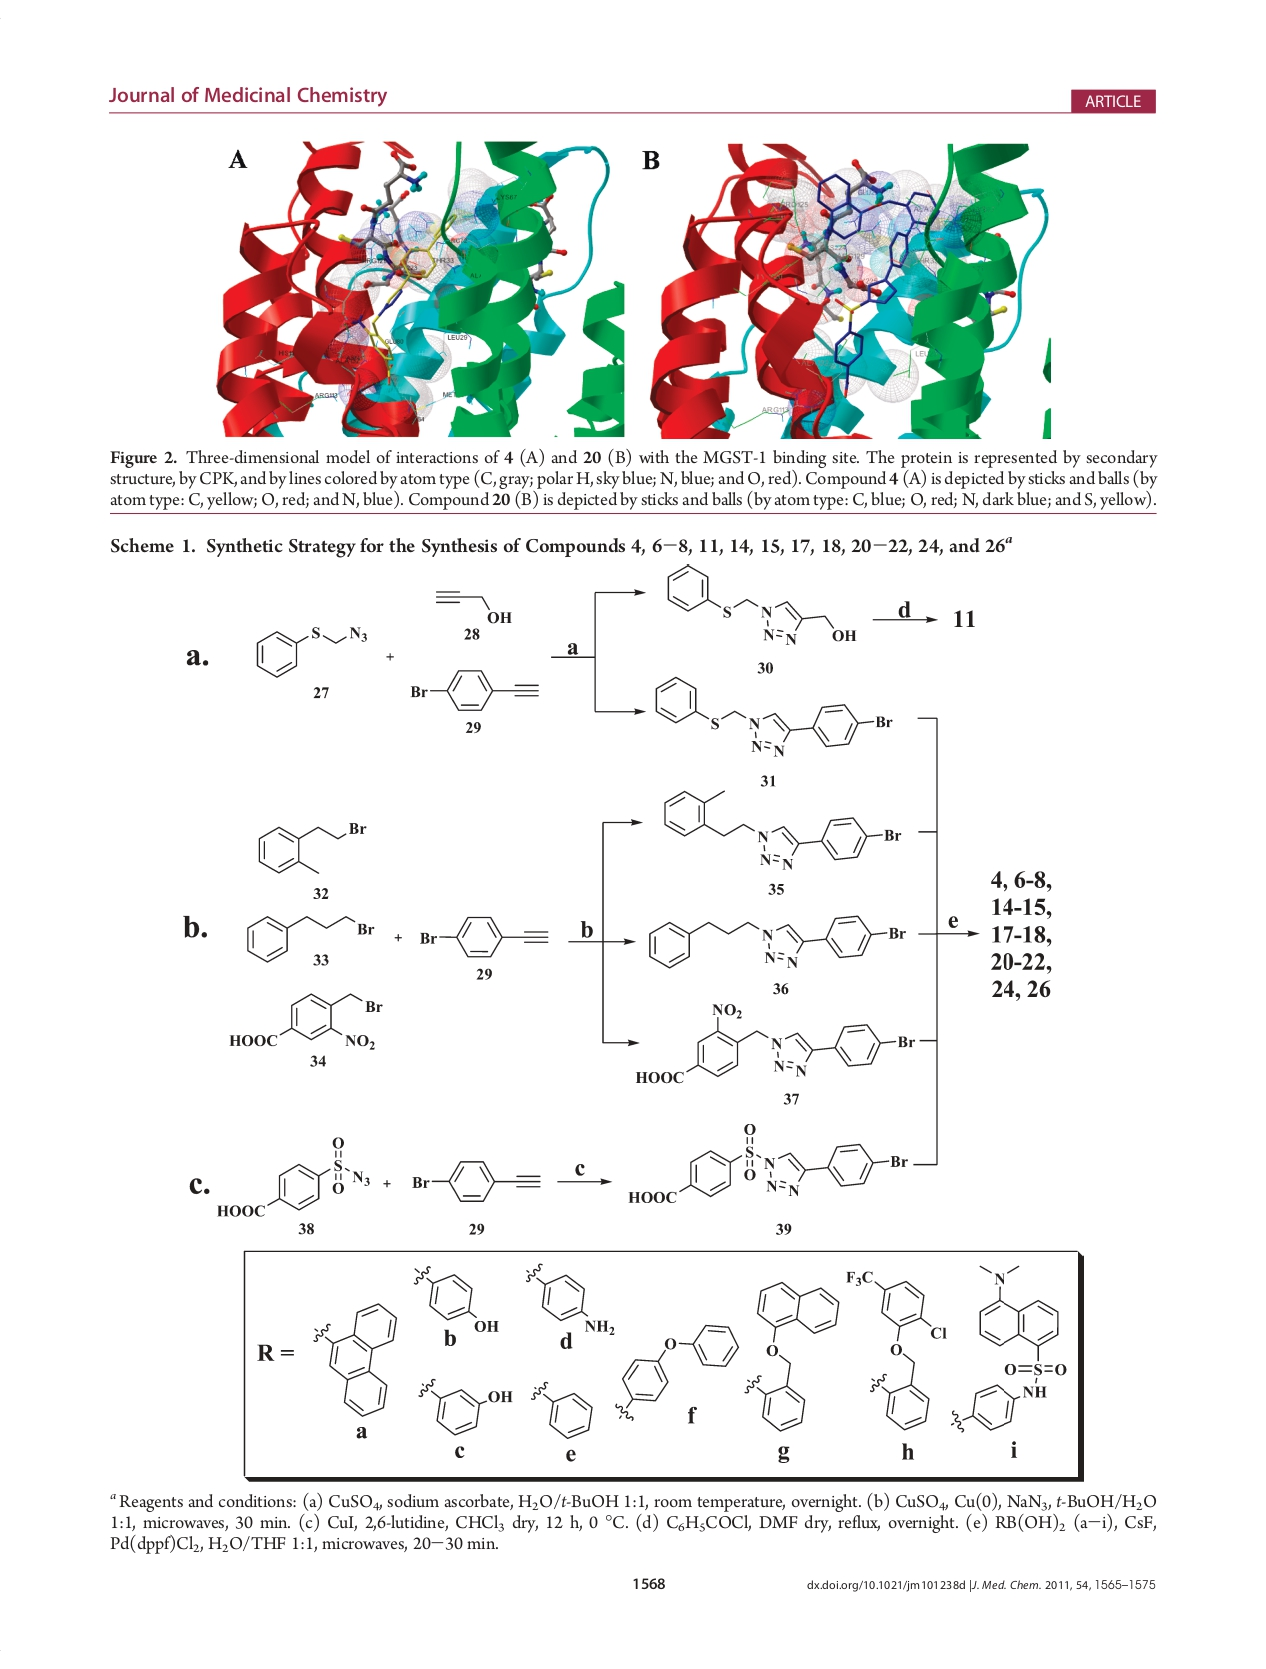exist_molecular: (625, 1118, 910, 1210), (633, 1001, 918, 1087), (949, 1258, 1071, 1438), (658, 786, 903, 872), (650, 674, 898, 759), (664, 561, 859, 654), (843, 1266, 949, 1434), (646, 914, 910, 972), (741, 1282, 840, 1432), (215, 1134, 372, 1220), (613, 1322, 739, 1422), (226, 991, 386, 1057), (313, 1301, 402, 1419), (404, 1261, 501, 1339), (523, 1258, 618, 1337), (253, 620, 372, 680), (254, 817, 368, 878), (243, 910, 376, 962), (419, 912, 555, 963), (408, 662, 543, 713), (410, 1158, 545, 1206), (416, 1376, 517, 1436), (525, 1375, 600, 1443), (432, 584, 515, 626)
